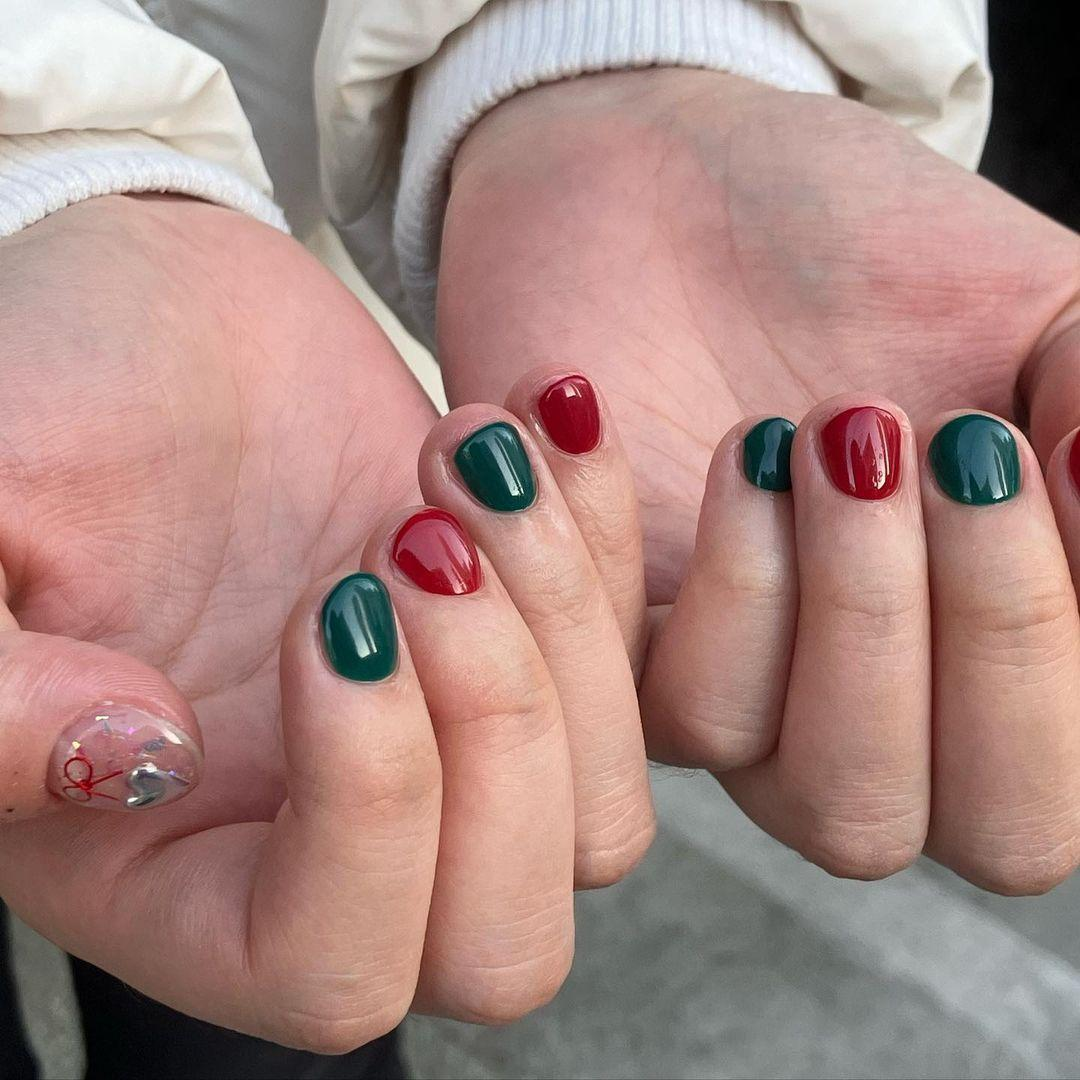nail: (44, 699, 202, 812), (317, 571, 400, 683), (926, 410, 1022, 506), (386, 506, 482, 596), (816, 403, 903, 500), (450, 419, 538, 513), (535, 372, 603, 456), (739, 415, 796, 492)
